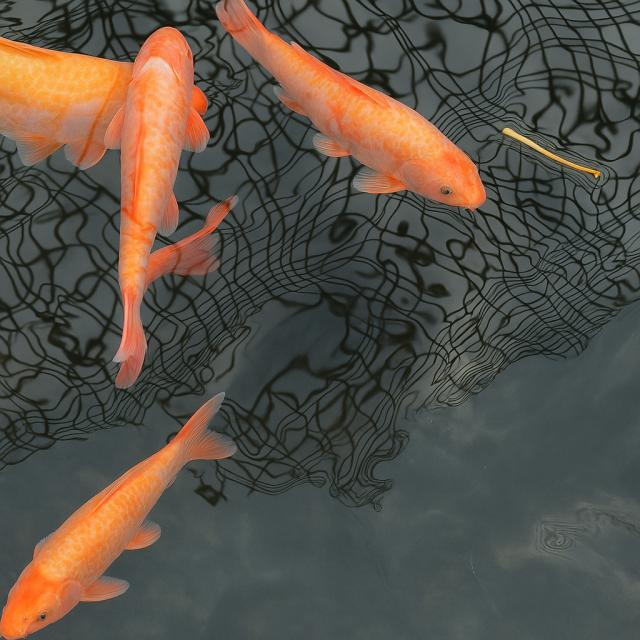ikan: (224, 28, 545, 224), (15, 411, 260, 630), (94, 23, 218, 375)
